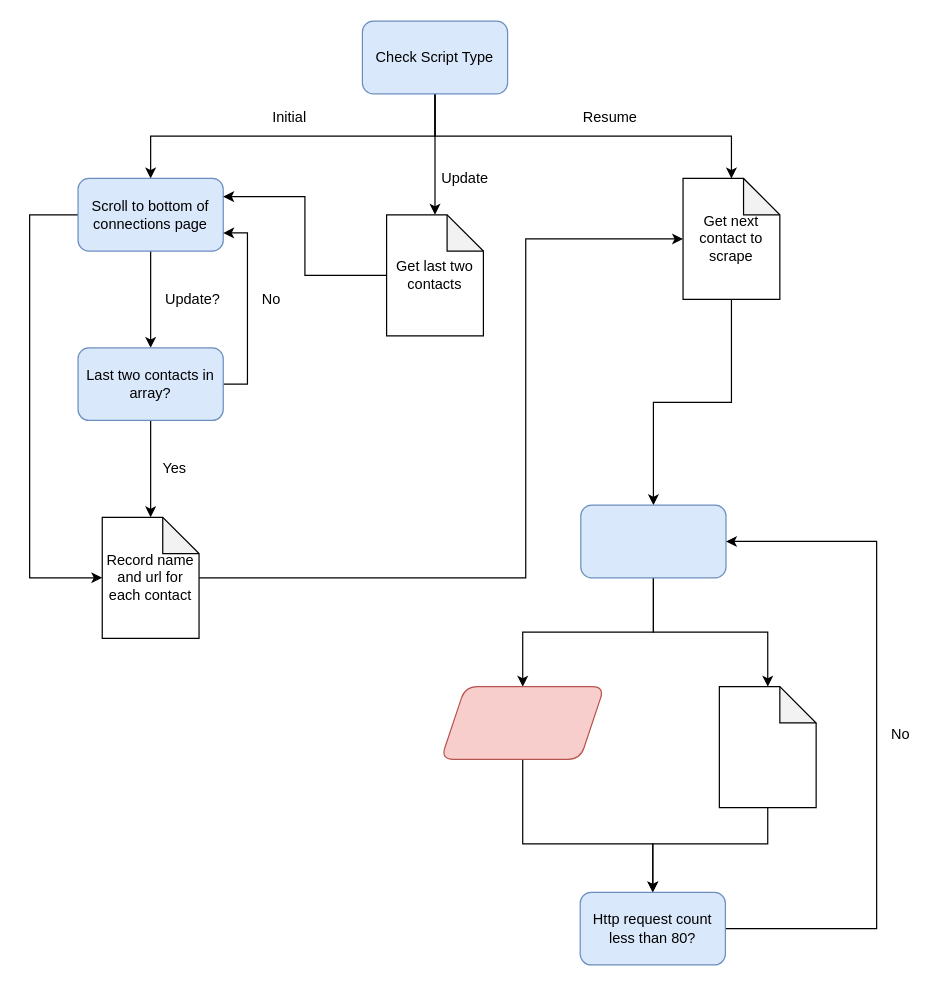
Image size: 946x986. Some labels were removed from this diagram. Here are the shapes that lost their labels. From the top down, the box of each, then its label:
(580, 504, 726, 578): Scrape Contact
(440, 685, 604, 759): Append contact to Airtable
(718, 685, 816, 808): Update contact with scraped info
